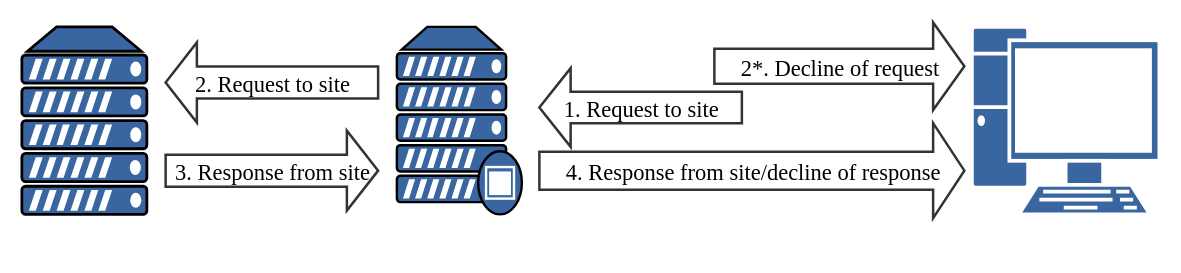
This 1181x273 diagram has some shape labels left out. Each missing label, with the centre of its shape:
"User" goes at point (1065, 120).
"Web filter" goes at point (459, 120).
"Web server" goes at point (84, 120).
